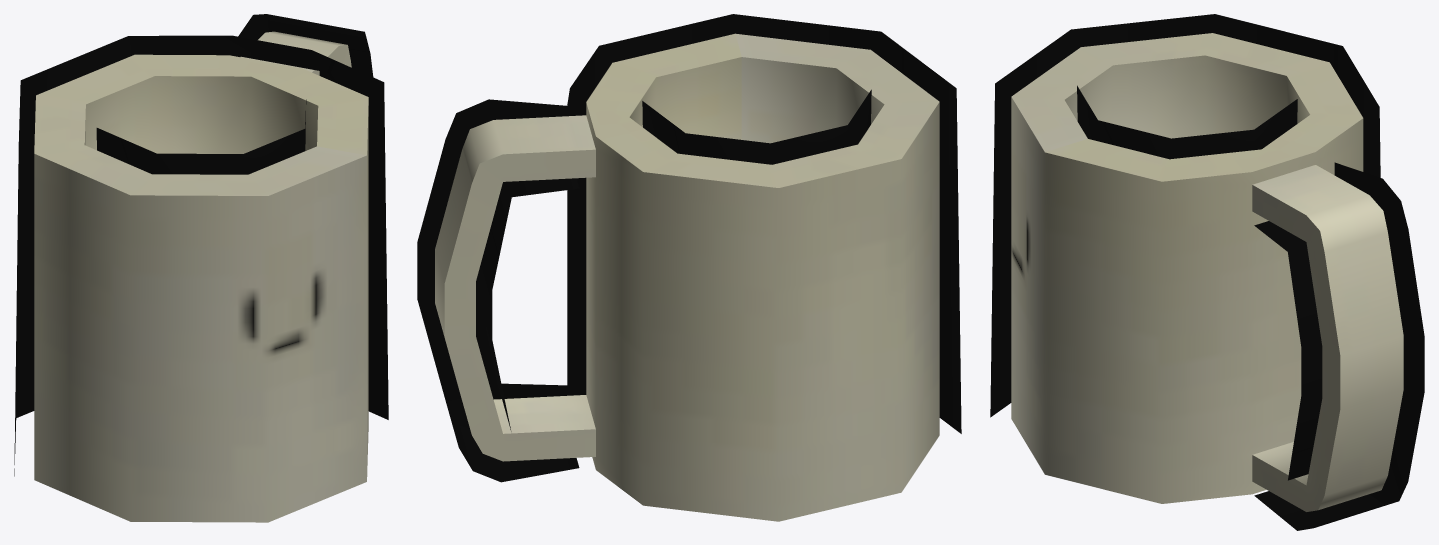
Rendered from Caneca.glb.
The picture shows the model from 3 angles, left to right: view 1: azimuth 30°, elevation 25°; view 2: azimuth 150°, elevation 25°; view 3: azimuth 270°, elevation 25°; orthographic projection. The views are drawn at different scales.
Parts seen in each view (by area): view 1: Caneca_001; view 2: Caneca_001; view 3: Caneca_001.
Boxes of the visible parts, x1,y1,x2,y2 form: Caneca_001: (14, 14, 388, 522); Caneca_001: (417, 14, 961, 521); Caneca_001: (990, 14, 1424, 530).
Bounding box in the file's own units: 0.1382 × 0.107 × 0.1228.
Materials: 2 (1 with a texture image).
